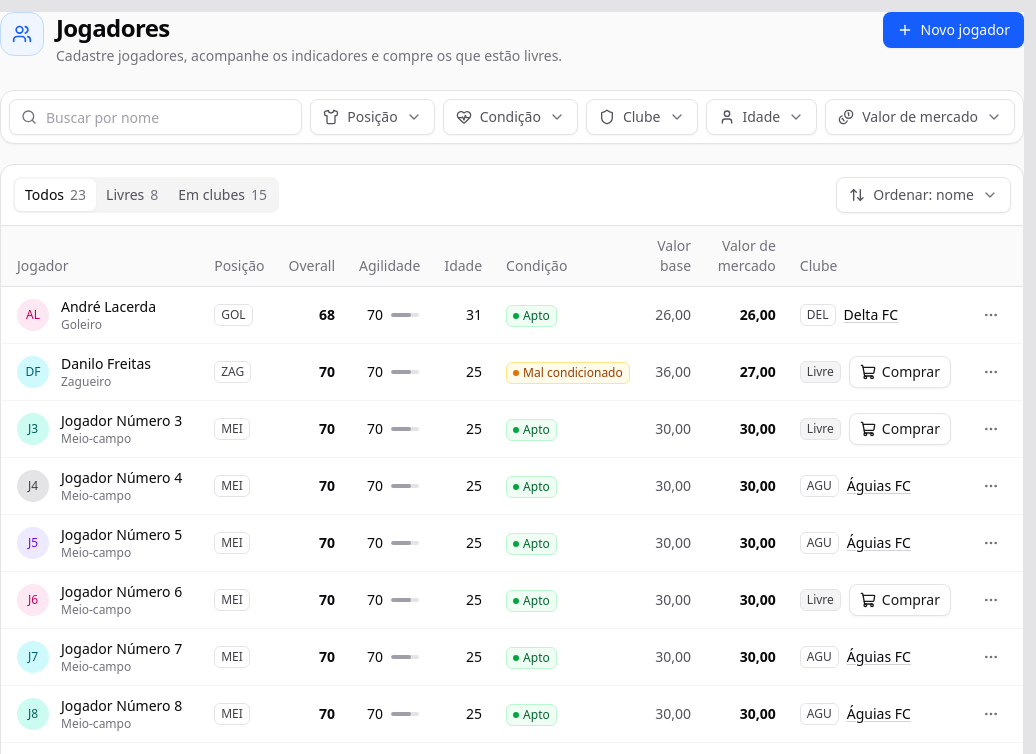
Test: PlayersPage › ordena pela opção escolhida
The width and height of the screenshot is (1036, 754).
Click the button "Ordenar: nome".
click(924, 195)  # box 836,177 -> 1011,213
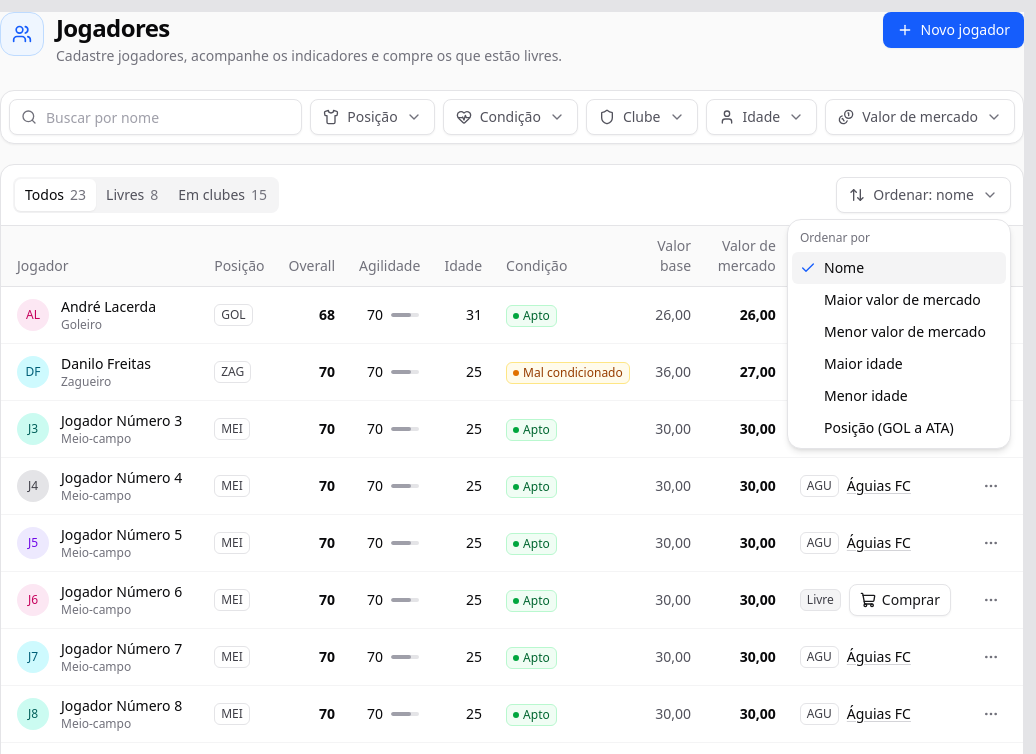
Click the menu item "Maior idade".
click(899, 364)  # box 792,348 -> 1006,380
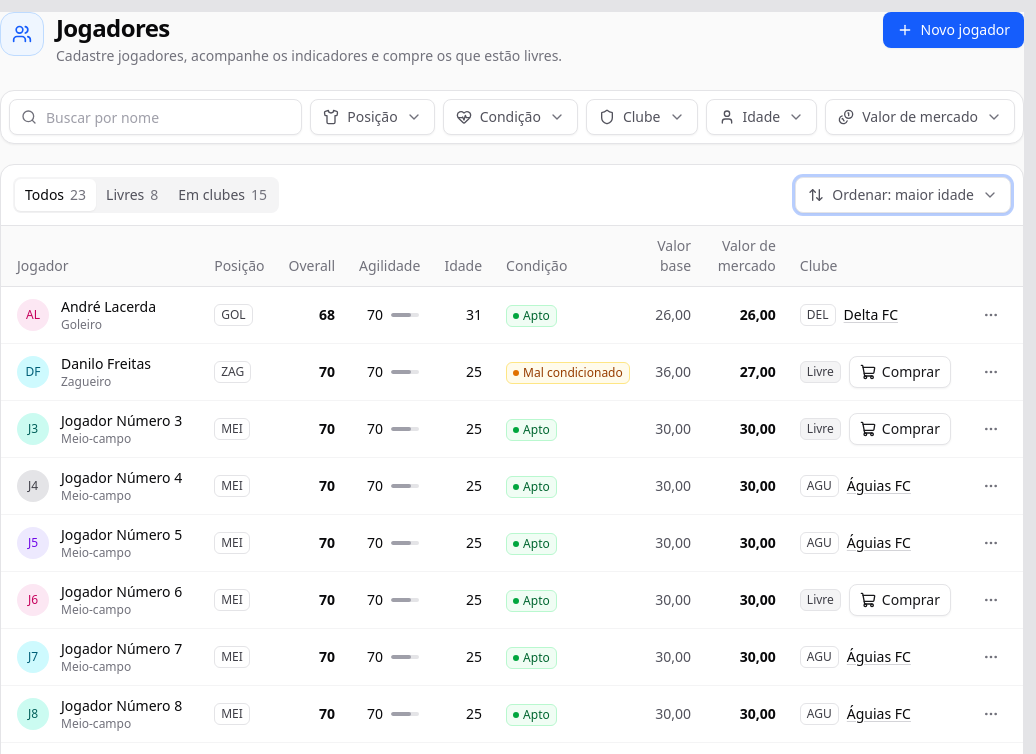
Expected: the button "Ordenar: maior idade" is shown, 795,177 -> 1011,213
